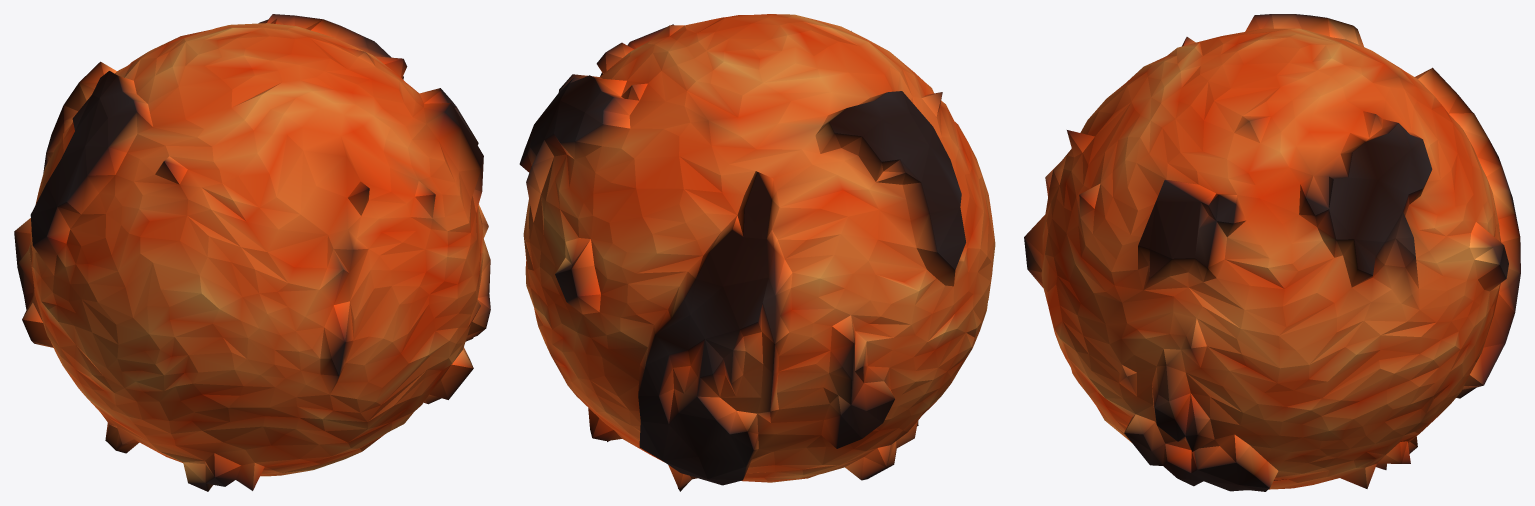
File: barren_25.fbx
3 views of the same model, side by side, from view 1: azimuth 30°, elevation 25°; view 2: azimuth 150°, elevation 25°; view 3: azimuth 270°, elevation 25° (orthographic). The views are drawn at different scales.
Parts seen in each view (by area): view 1: filecache1; view 2: filecache1; view 3: filecache1.
Part boxes in pixels (x1,y1,x2,y2): filecache1: (14,14,490,491); filecache1: (519,14,995,491); filecache1: (1024,14,1520,491).
Size of the model in its own units: 2.08 by 2.02 by 2.18.
